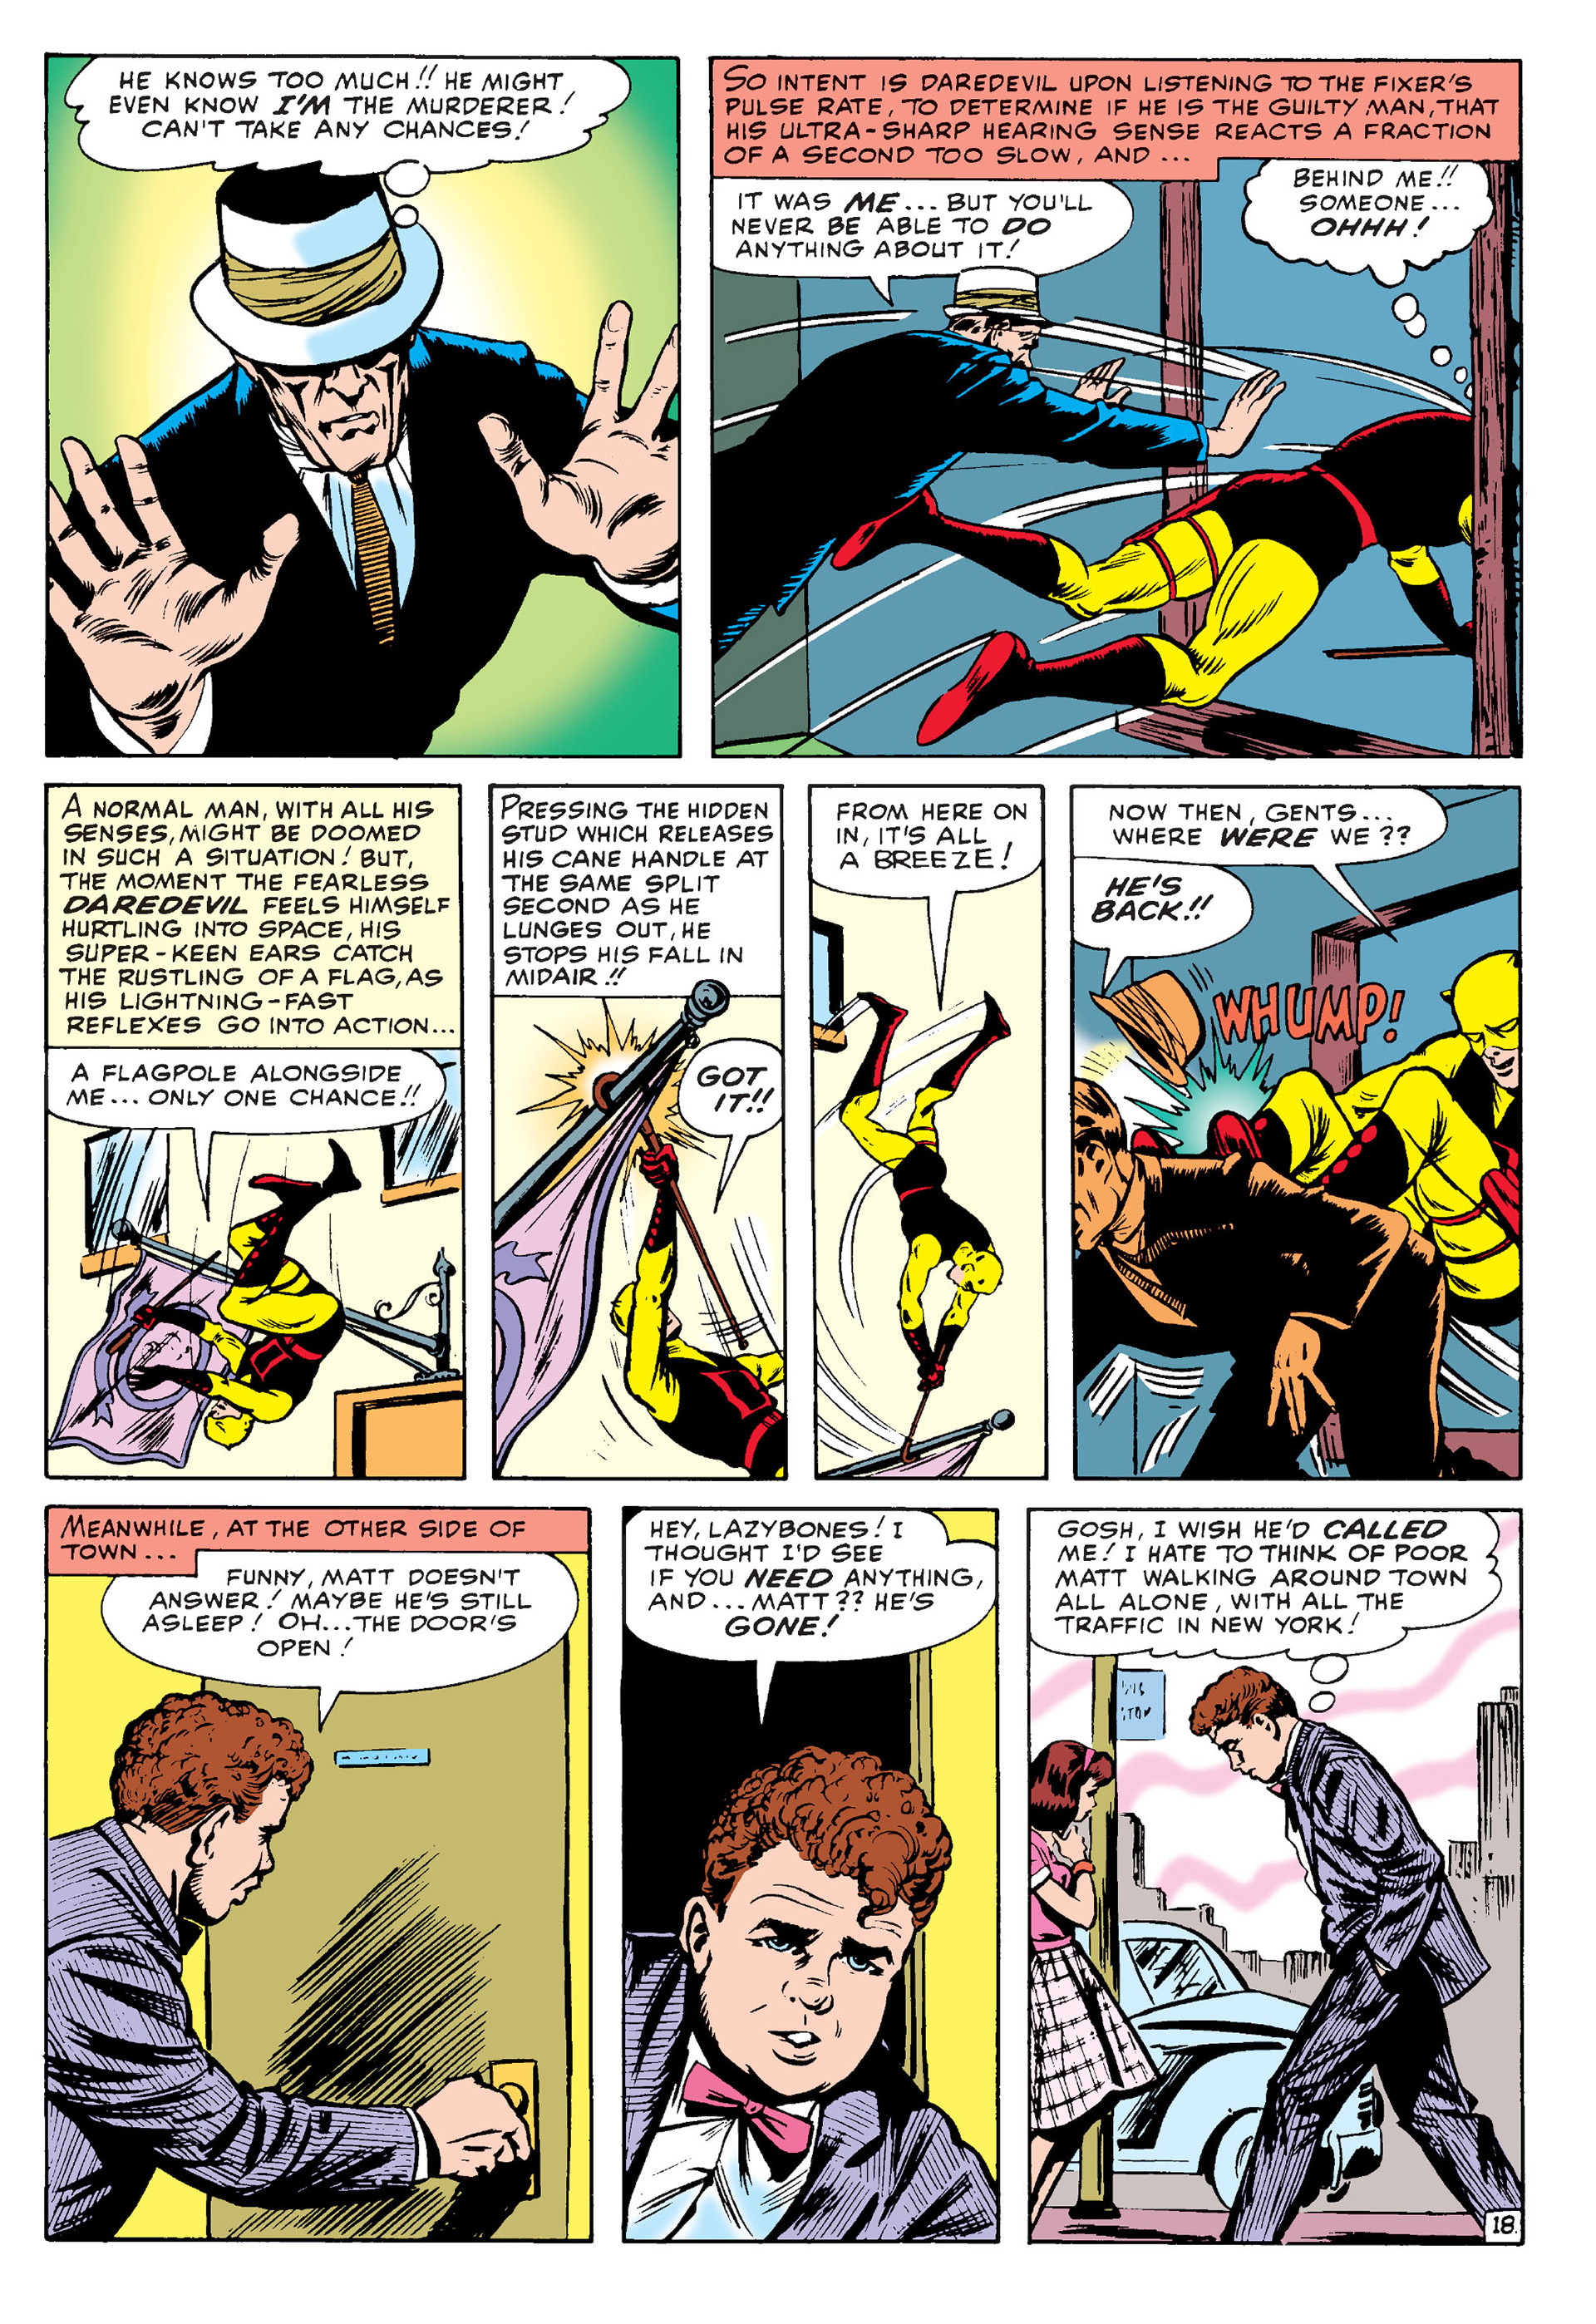Baloon: (715, 57, 1525, 752), (44, 51, 683, 756), (41, 1508, 590, 2250), (1026, 1515, 1522, 2250), (1070, 789, 1525, 1487), (44, 782, 466, 1483), (618, 1501, 994, 2239), (810, 782, 1049, 1483), (44, 779, 459, 1042), (715, 62, 1515, 182), (1024, 1508, 1511, 1686), (65, 51, 637, 189), (627, 1508, 1001, 1697), (83, 1552, 576, 1692), (496, 786, 784, 998), (715, 178, 1135, 298), (807, 786, 1031, 998), (1073, 779, 1453, 876), (44, 1512, 579, 1577), (1236, 161, 1501, 290), (48, 1053, 455, 1136), (1056, 862, 1253, 980), (666, 1038, 784, 1164)
